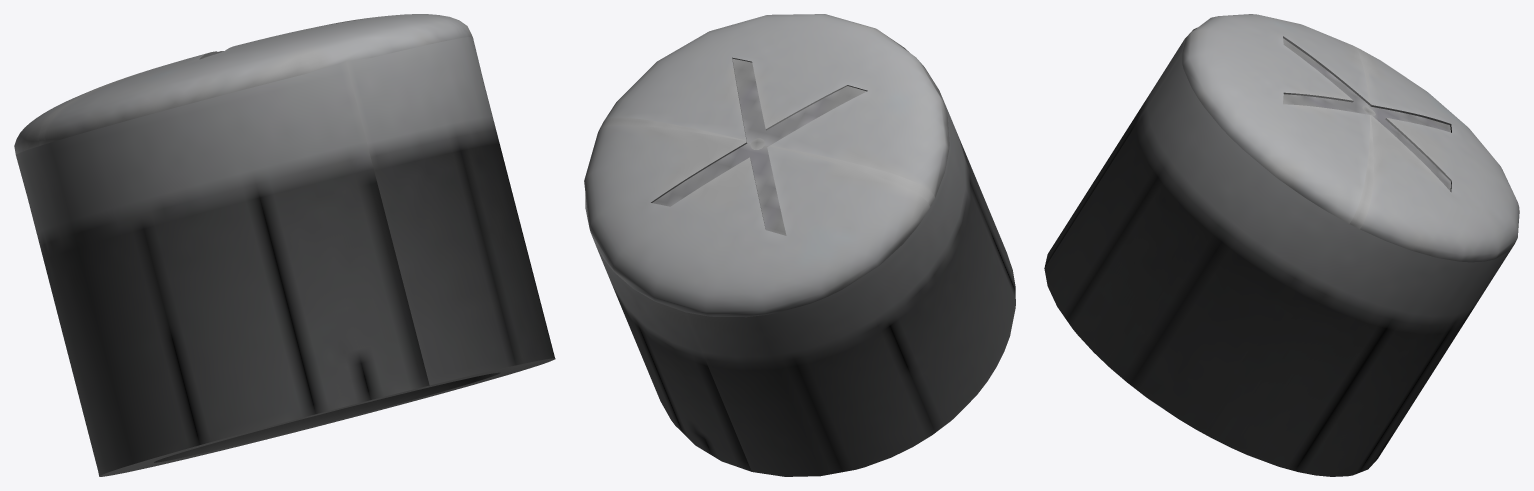
The model's file is button_x.obj.
3 views of the same model, side by side, from view 1: azimuth 30°, elevation 25°; view 2: azimuth 150°, elevation 25°; view 3: azimuth 270°, elevation 25° (orthographic). The views are drawn at different scales.
Visible parts, largest first — view 1: button_x.001; view 2: button_x.001; view 3: button_x.001.
Boxes of the visible parts, <box> form: button_x.001: <box>14,14,555,476</box>; button_x.001: <box>584,14,1015,476</box>; button_x.001: <box>1044,14,1519,476</box>.
Bounding box in the file's own units: 0.01 × 0.0114 × 0.0122.
1 material, 1 textured.
